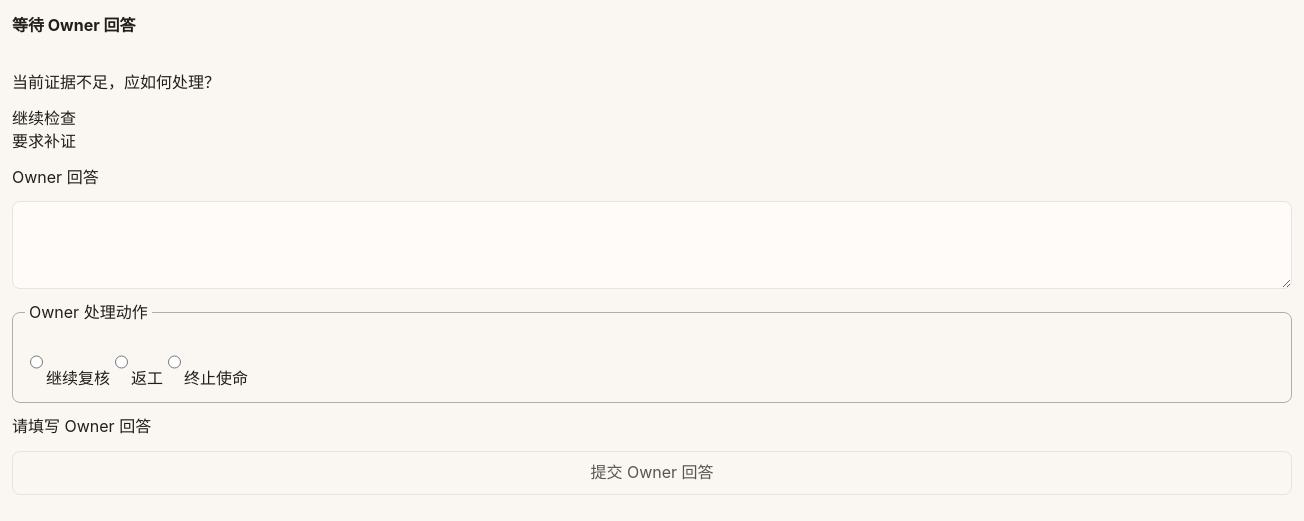
Test case: owner escalation answer UI › preserves answer/action draft on error and exposes an alert
The image size is (1304, 521).
In the text box labelled "Owner 回答": (652, 245) [12,201,1292,289], type "请基于现有 result 继续，但不能直接通过。"
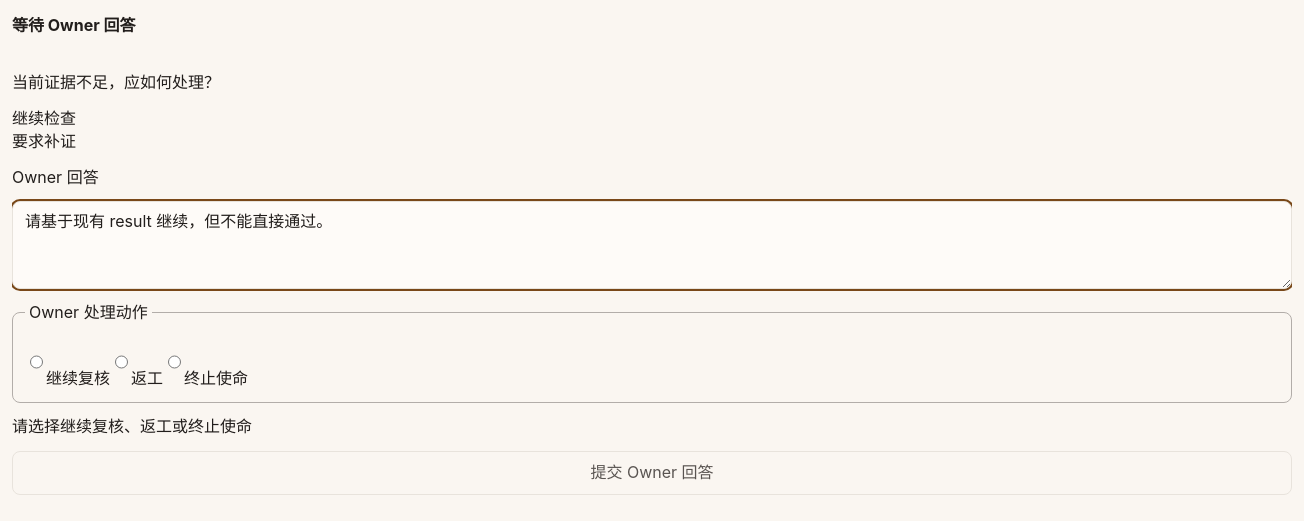
Click the radio button labelled "继续复核": click(36, 362) [30,340,43,384]
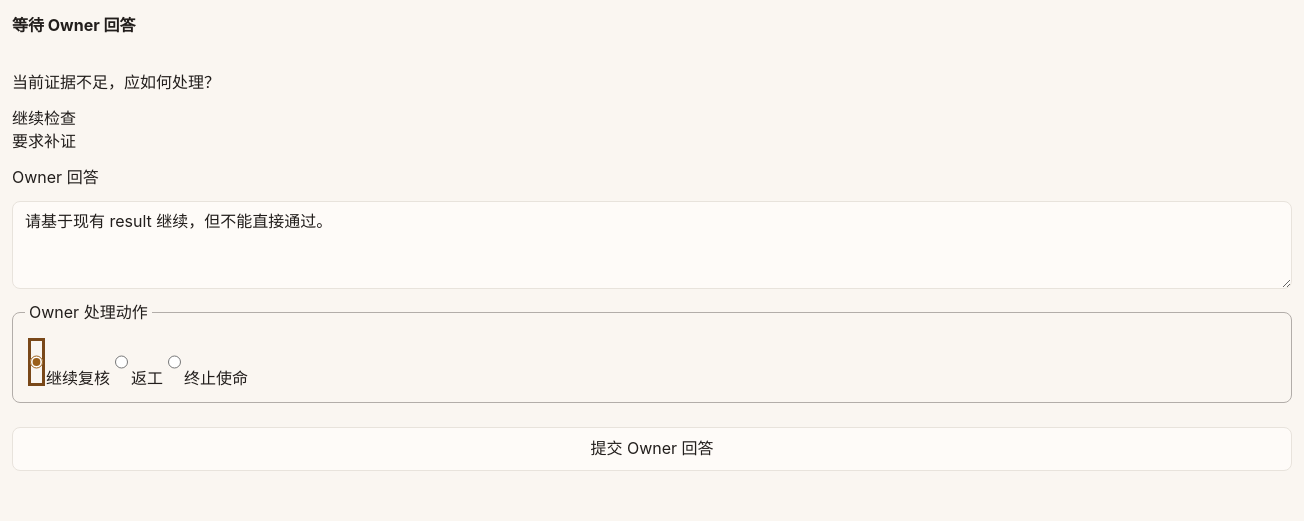
Click the button "提交 Owner 回答": click(652, 449) [12,427,1292,471]
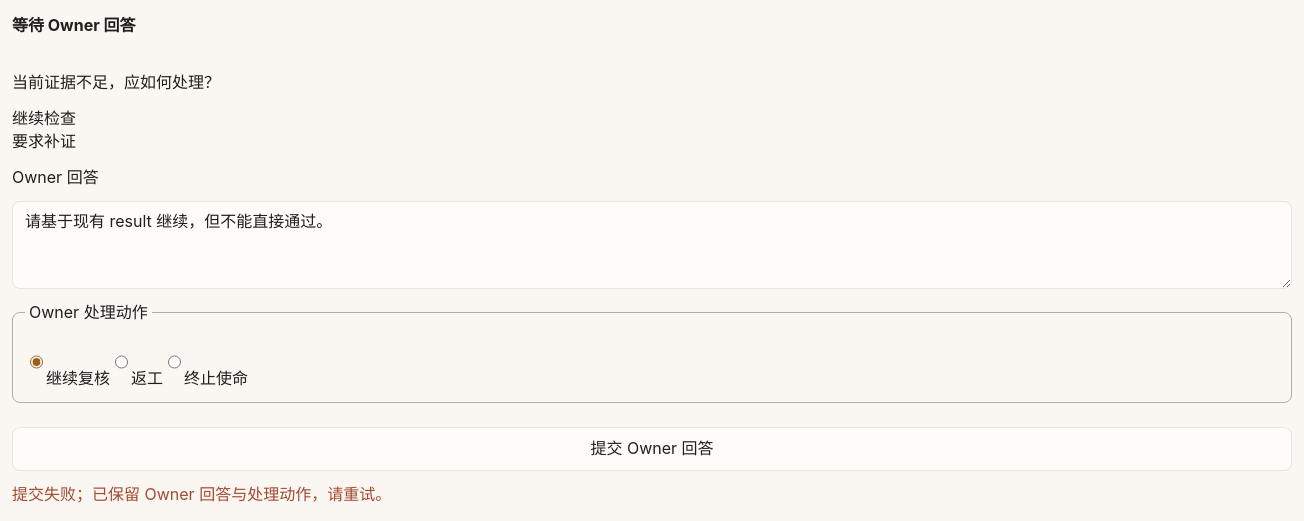
Result: the radio button labelled "继续复核" is checked at [30,340,43,384]
Result: the message shows "提交失败" at [12,484,391,504]
